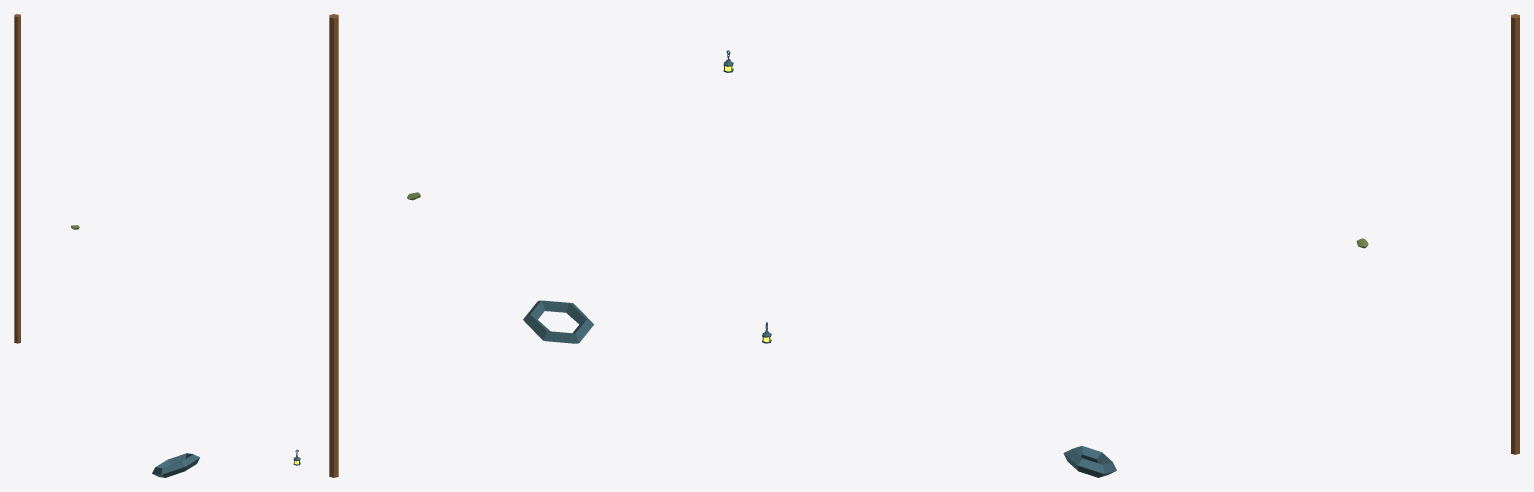
3 views of the same model, side by side, from view 1: azimuth 30°, elevation 25°; view 2: azimuth 150°, elevation 25°; view 3: azimuth 270°, elevation 25° (orthographic). The views are drawn at different scales.
Visible parts, largest first — view 1: Cylinder1488_brown_0, Torus012_metal_0; view 2: Cylinder1488_brown_0, Torus012_metal_0; view 3: Cylinder1488_brown_0, Torus012_metal_0.
Part boxes in pixels (left/top/right/bottom): Cylinder1488_brown_0: left=14, top=14, right=20, bottom=343; Torus012_metal_0: left=152, top=453, right=199, bottom=477; Cylinder1488_brown_0: left=329, top=14, right=338, bottom=477; Torus012_metal_0: left=523, top=300, right=593, bottom=343; Cylinder1488_brown_0: left=1511, top=14, right=1519, bottom=454; Torus012_metal_0: left=1063, top=446, right=1116, bottom=477.
Bounding box in the file's own units: 350 × 2853 × 4267.
